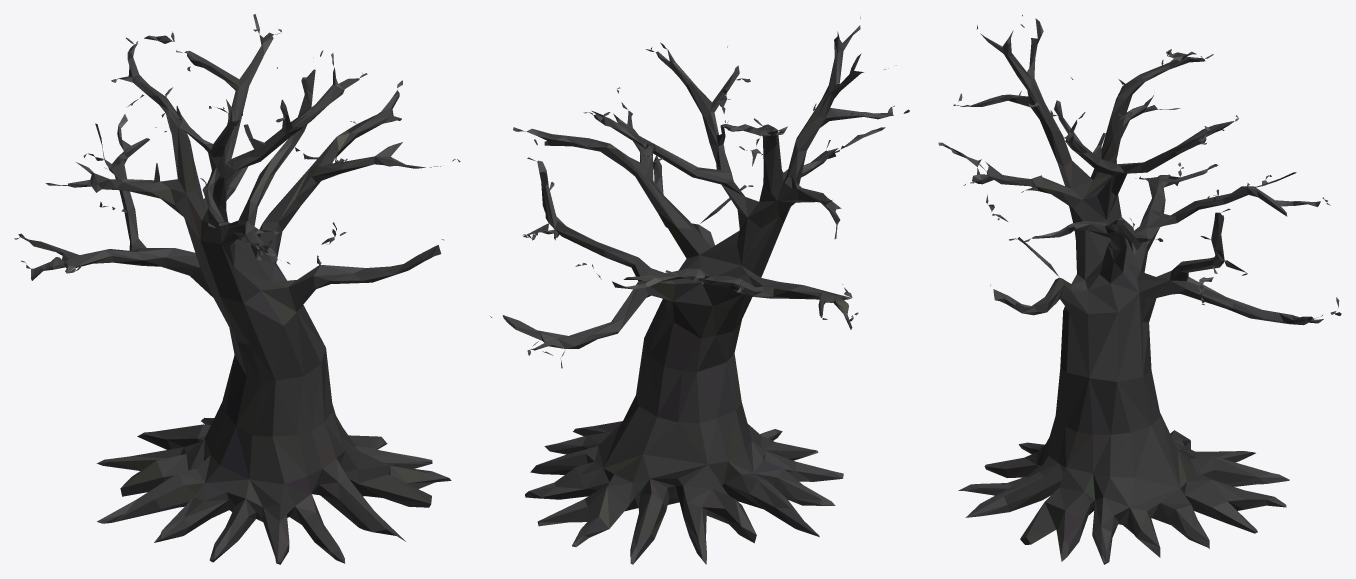
The model's file is wh-reachtree-c-pixelated.glb.
3 renders of one model, left to right at view 1: azimuth 30°, elevation 25°; view 2: azimuth 150°, elevation 25°; view 3: azimuth 270°, elevation 25°, orthographic. The views are drawn at different scales.
Visible parts, largest first — view 1: wh-reachtree-c.glb; view 2: wh-reachtree-c.glb; view 3: wh-reachtree-c.glb.
Part boxes in pixels (bbox=[...]): wh-reachtree-c.glb: bbox=[14, 14, 460, 564]; wh-reachtree-c.glb: bbox=[490, 17, 909, 564]; wh-reachtree-c.glb: bbox=[938, 14, 1341, 564].
Size of the model in its own units: 1.42 by 1.73 by 1.47.
1 material, 1 textured.
